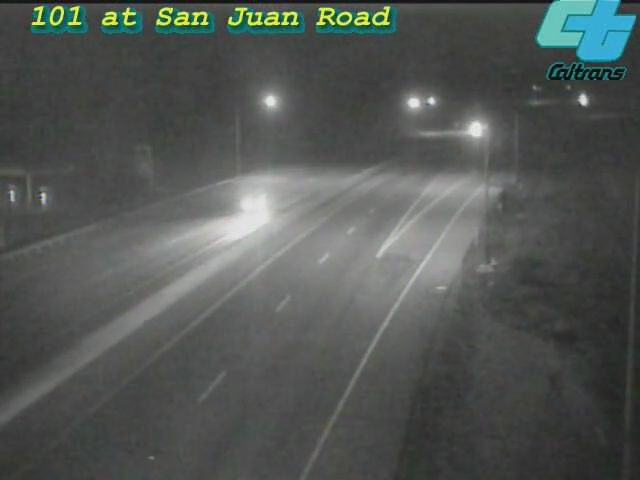vehicle: (223, 164, 303, 244), (453, 104, 503, 154)
